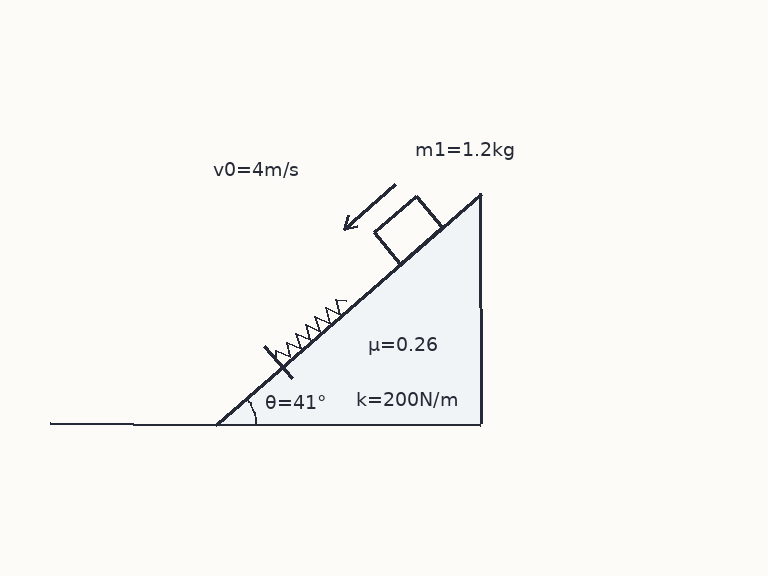block: (372, 194, 445, 266)
ramp: (214, 192, 482, 426)
spring: (274, 297, 347, 362)
